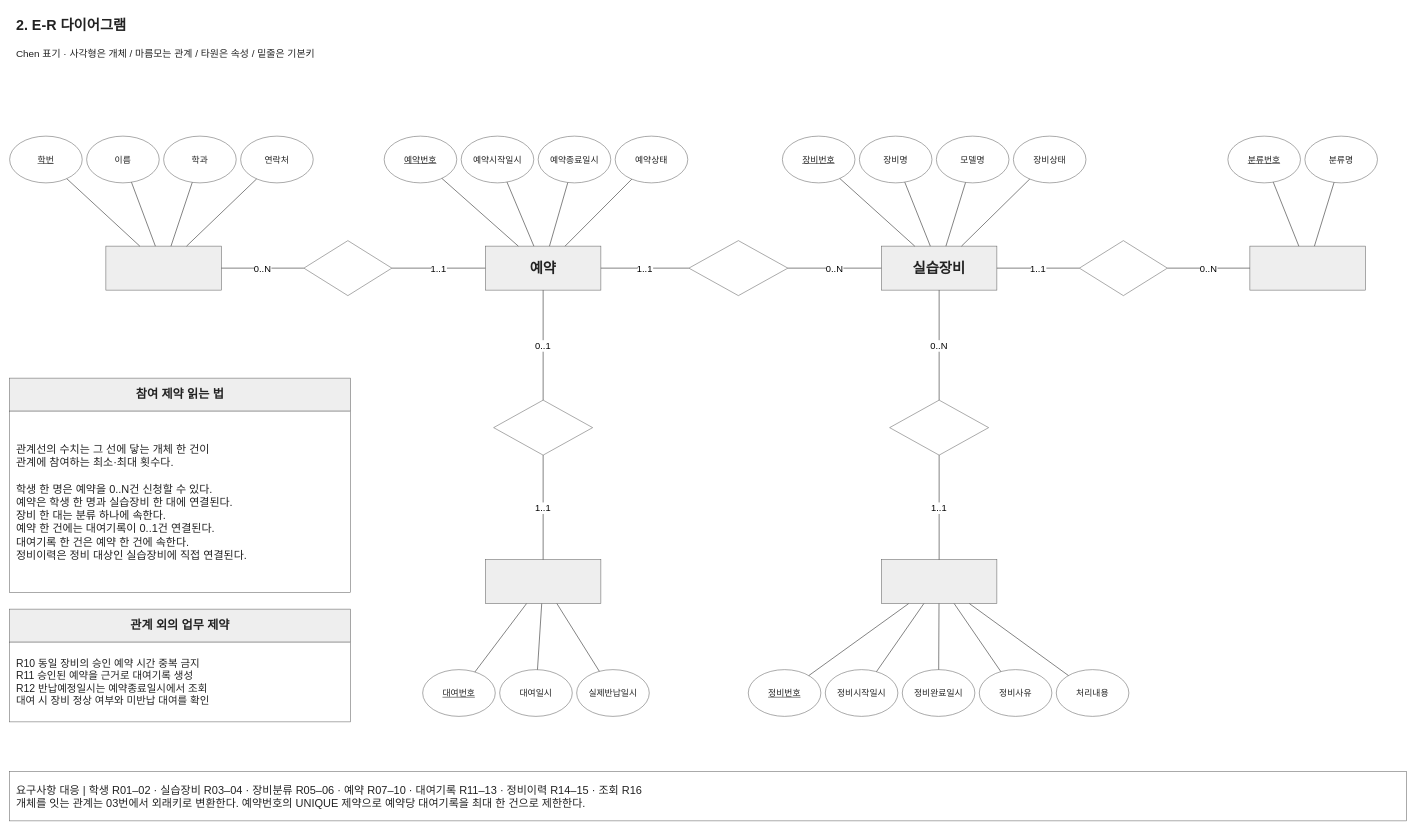
Image size: 1416x831. Some labels were removed from this diagram. Each missing label, with the centre of its shape:
대상 장비: the point at 738,268
대여 근거: the point at 543,427
대여기록: the point at 543,581
소속: the point at 1123,268
신청: the point at 347,268
장비분류: the point at 1307,268
정비 기록: the point at 939,427
정비이력: the point at 939,581
학생: the point at 163,268
